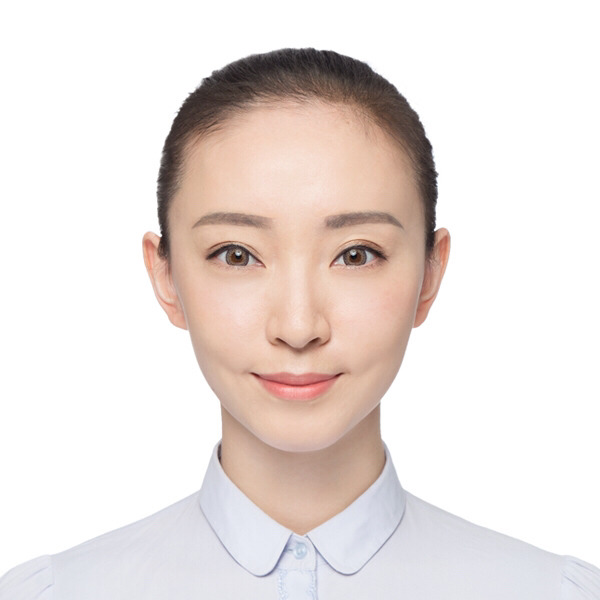unmask: (171, 160, 426, 421)
